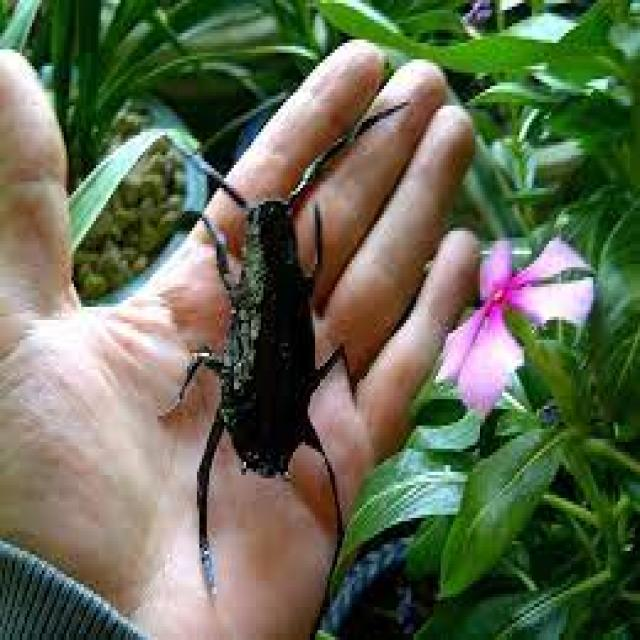Cockroach: (153, 126, 389, 582)
